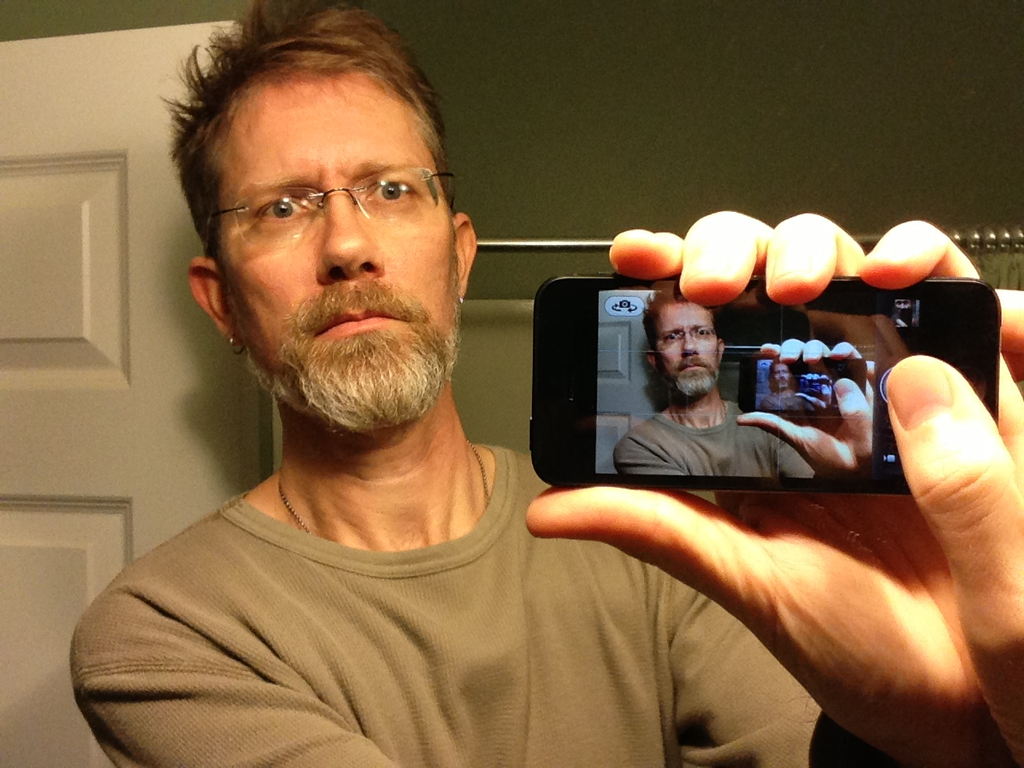Mobile-phone: (532, 271, 1000, 492)
